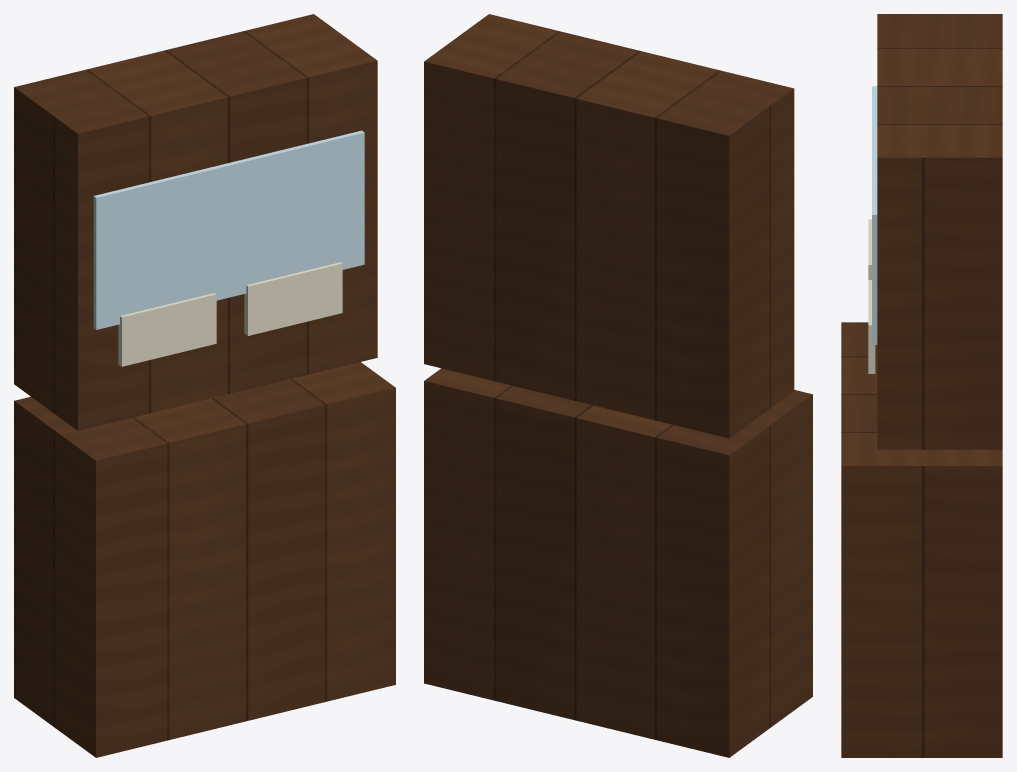
The model's file is kredens.glb.
3 views of the same model, side by side, from view 1: azimuth 30°, elevation 25°; view 2: azimuth 150°, elevation 25°; view 3: azimuth 270°, elevation 25° (orthographic). The views are drawn at different scales.
Visible parts, largest first — view 1: kredens; view 2: kredens; view 3: kredens.
Part boxes in pixels (left/top/right/bottom): kredens: left=14, top=14, right=395, bottom=757; kredens: left=424, top=14, right=812, bottom=757; kredens: left=841, top=14, right=1002, bottom=757.
Bounding box in the file's own units: 0.95 × 1.85 × 0.45.
Materials: 3 (1 with a texture image).
